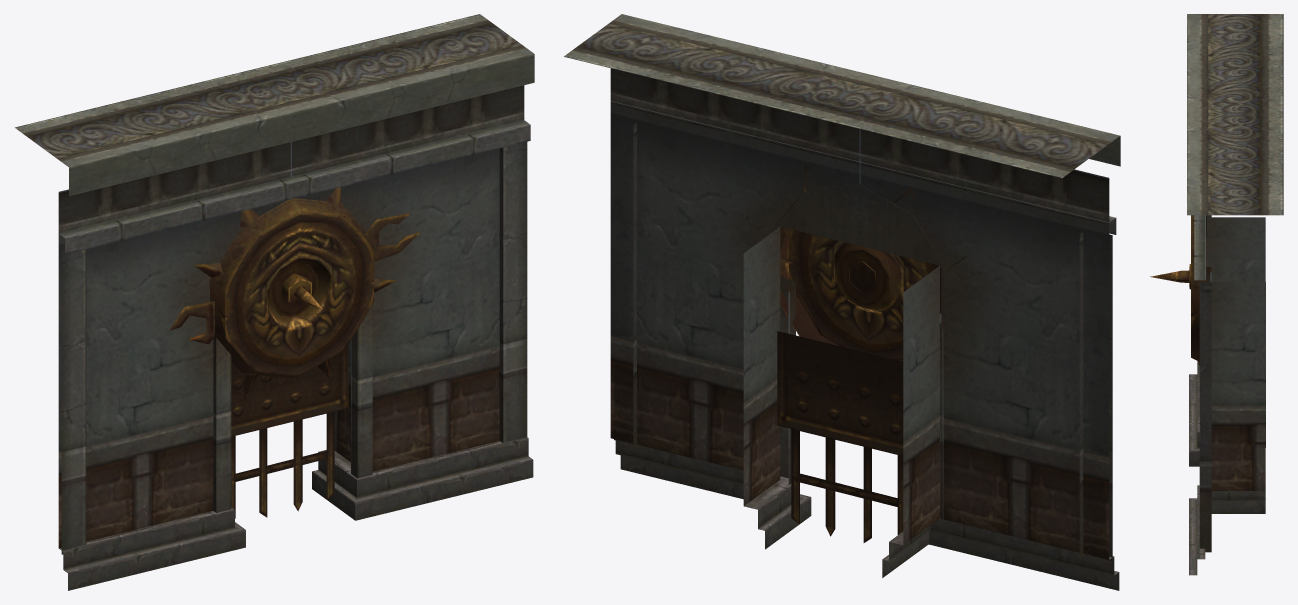
File: fb_yanwanggumu_pinjieqiang.FBX
3 views of the same model, side by side, from view 1: azimuth 30°, elevation 25°; view 2: azimuth 150°, elevation 25°; view 3: azimuth 270°, elevation 25° (orthographic). The views are drawn at different scales.
Visible parts, largest first — view 1: fb_yanwanggumu_pinjieqiang; view 2: fb_yanwanggumu_pinjieqiang; view 3: fb_yanwanggumu_pinjieqiang.
Boxes of the visible parts, bbox=[...] form: fb_yanwanggumu_pinjieqiang: bbox=[15, 14, 534, 590]; fb_yanwanggumu_pinjieqiang: bbox=[564, 14, 1120, 590]; fb_yanwanggumu_pinjieqiang: bbox=[1150, 14, 1283, 575].
Size of the model in its own units: 692 by 602 by 195.
Materials: 1 (1 with a texture image).
